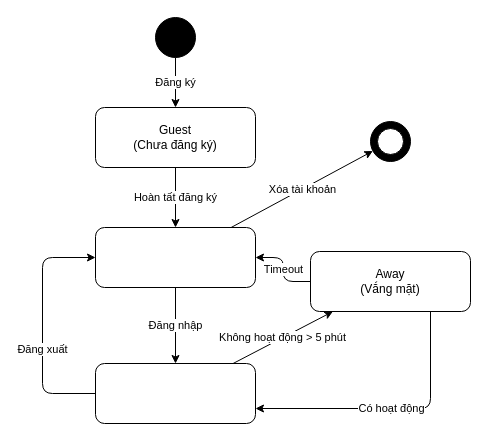
Image size: 488x441. Some labels were removed from this diagram. Each missing label, with the box of its shape:
Offline (Đã đăng ký): (94, 226, 256, 288)
Online (Đang hoạt động): (94, 362, 256, 424)
